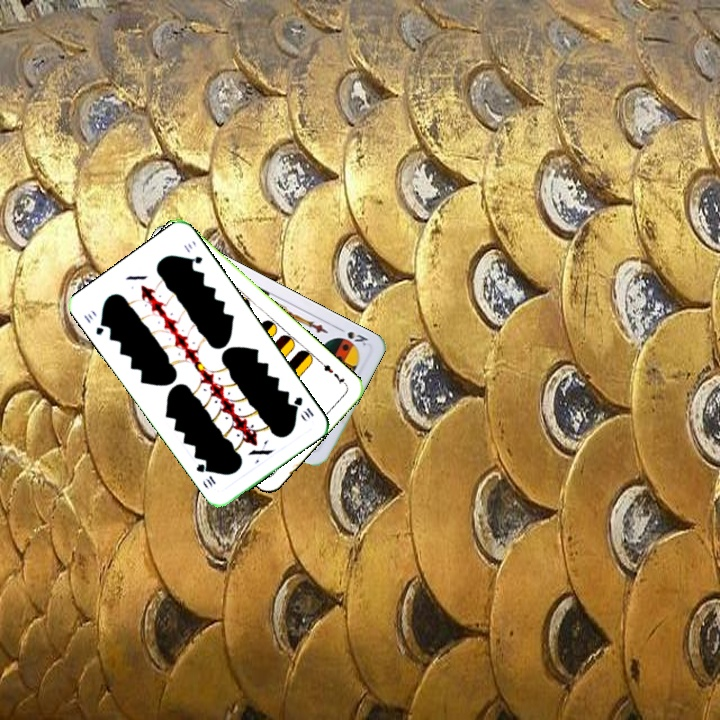E7: (316, 358, 349, 389)
G10: (80, 309, 109, 338), (289, 393, 316, 420)
SK: (333, 323, 371, 349)
